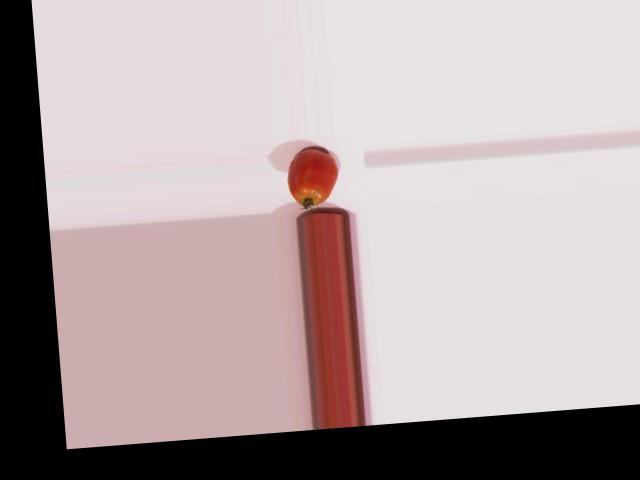tomato: (286, 148, 340, 207)
